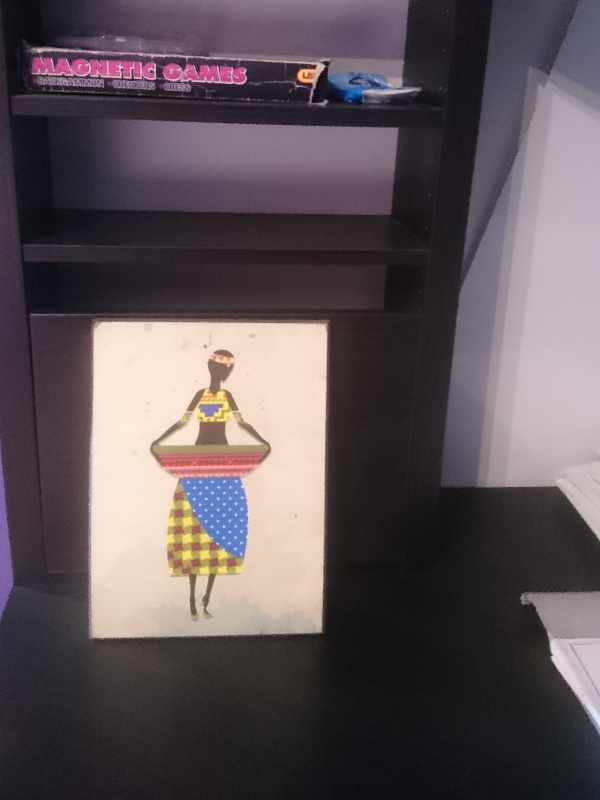my image: (89, 320, 328, 638)
